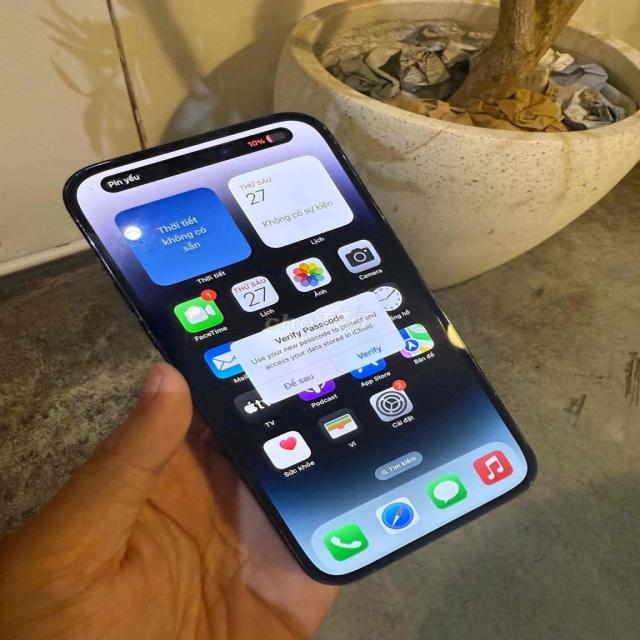gen_14: (55, 108, 542, 578)
